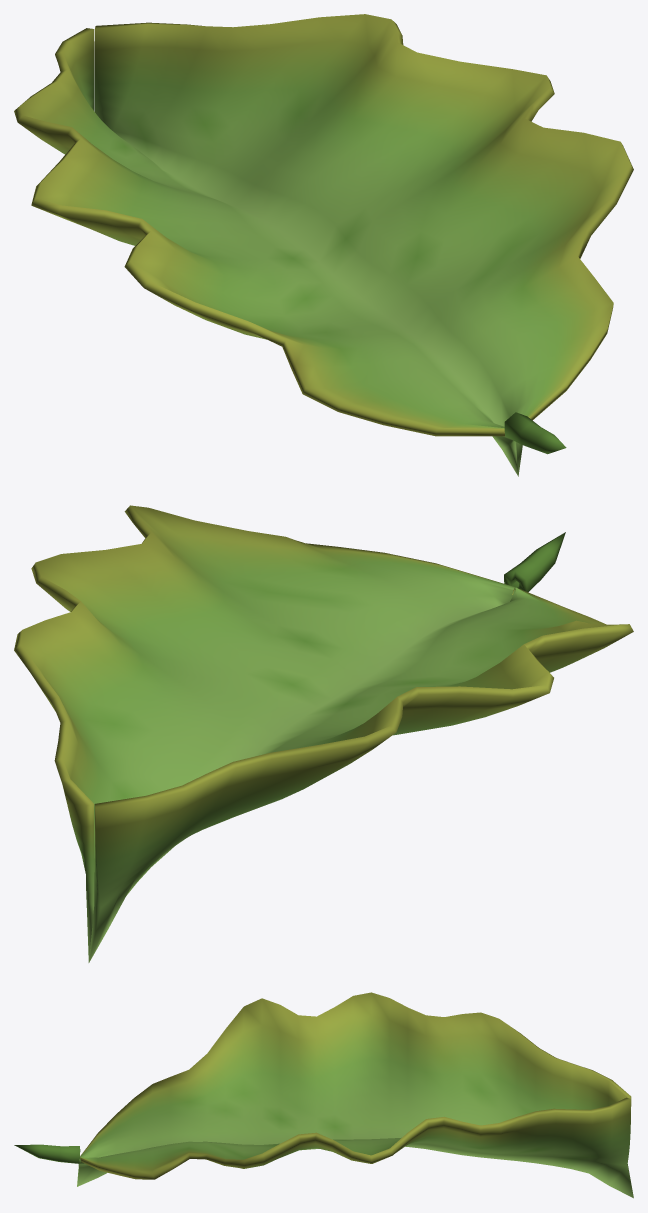
The model's file is Leaf_Oak_Green.fbx.
3 renders of one model, top to bottom at view 1: azimuth 30°, elevation 25°; view 2: azimuth 150°, elevation 25°; view 3: azimuth 270°, elevation 25°, orthographic. The views are drawn at different scales.
Visible parts, largest first — view 1: Leaf_Oak_Green; view 2: Leaf_Oak_Green; view 3: Leaf_Oak_Green.
Boxes of the visible parts, bbox=[...] form: Leaf_Oak_Green: bbox=[14, 14, 633, 476]; Leaf_Oak_Green: bbox=[14, 505, 633, 962]; Leaf_Oak_Green: bbox=[14, 992, 633, 1198].
Bounding box in the file's own units: 3.56 × 1.34 × 5.67.
